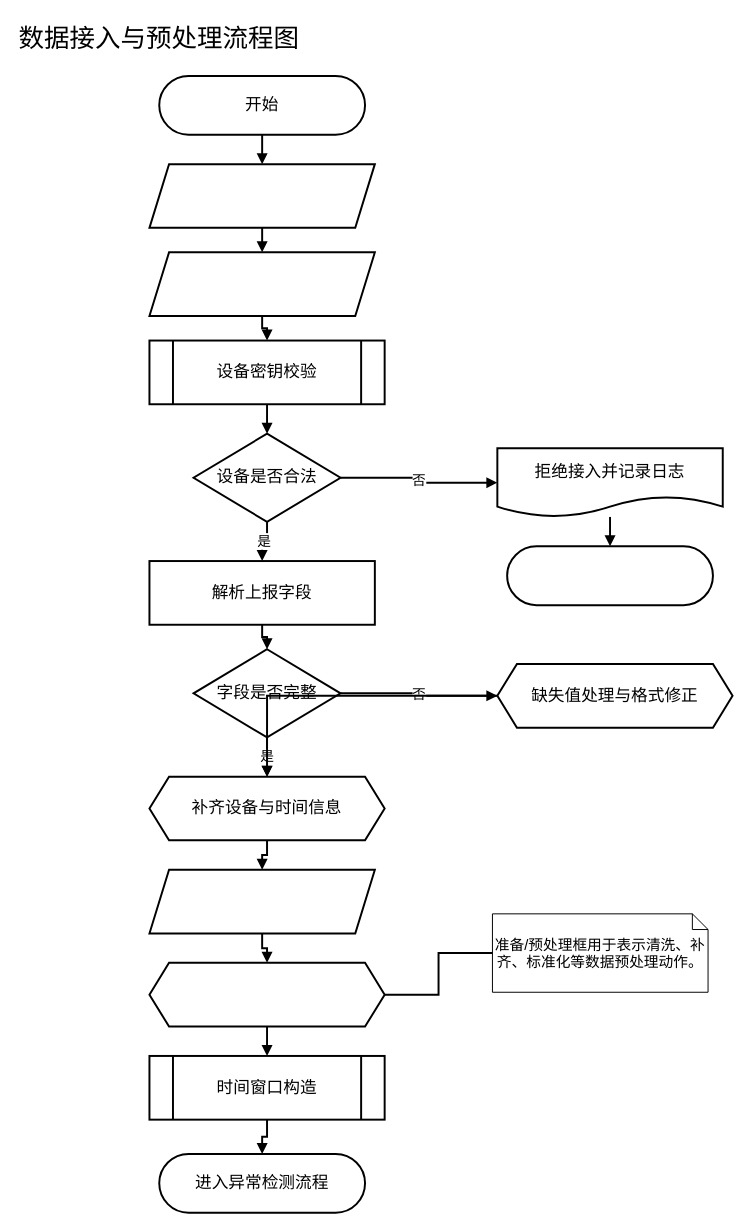
This 750x1230 diagram has some shape labels left out. The shapes that lost their labels are listed below. From the top down, each one's centre as x and y in pixels, then its label:
[261,195]: 燃气表采集运行数据
[261,284]: 通过HTTP接口上报数据
[609,575]: 结束
[261,901]: 写入原始物理数据
[266,994]: 特征标准化
